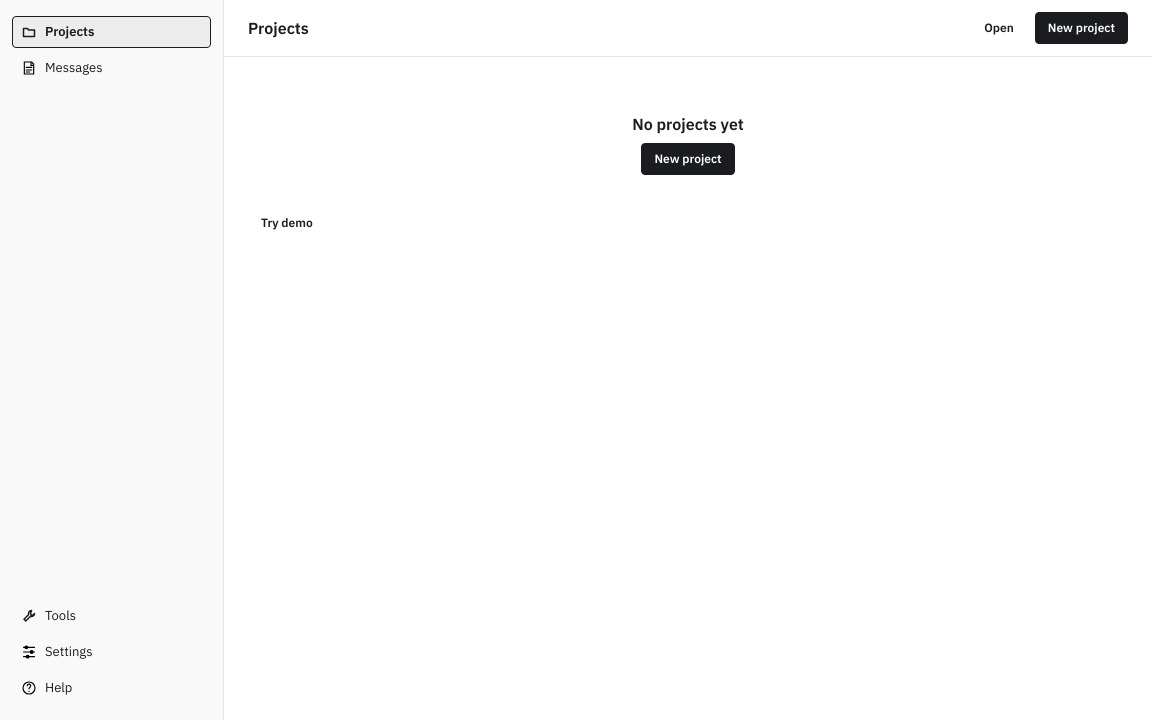
Test case: reader navigation expands and collapses without rereading or duplicating the message heading
Expected: the navigation bar named "Main" is shown, x1=0 y1=0 x2=224 y2=719
Click the button "Tools" at (112, 616), box x1=12 y1=600 x2=211 y2=632
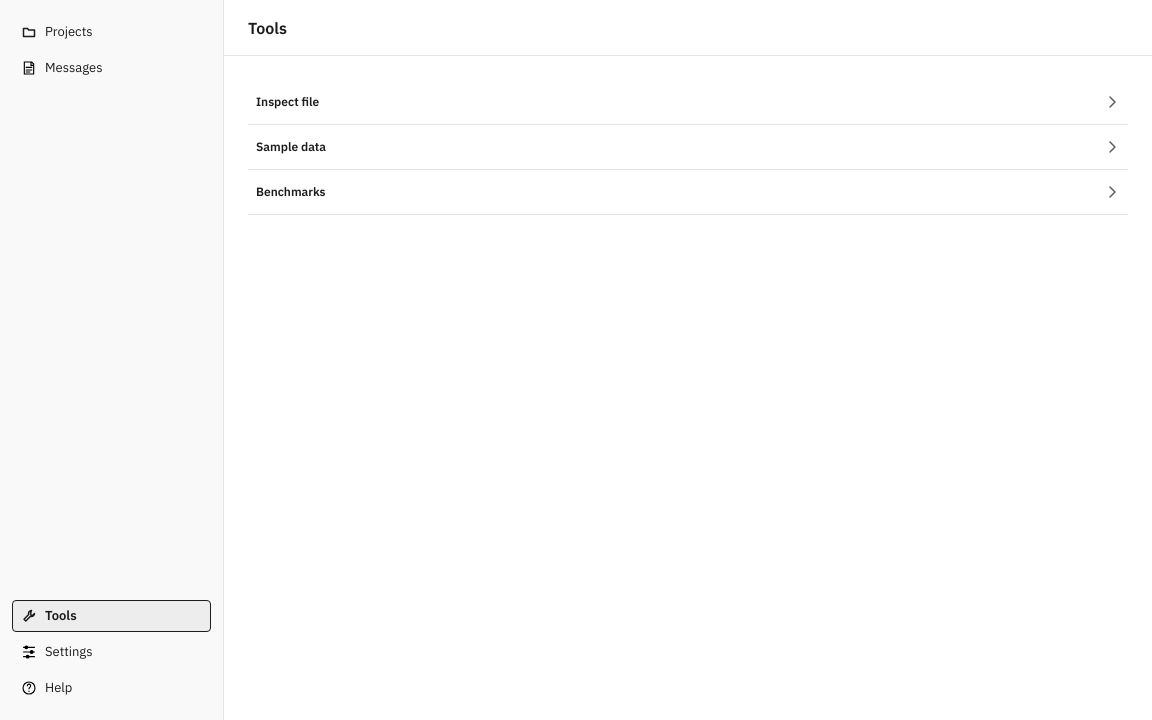
Click the button "Inspect file" at (288, 102), box x1=248 y1=80 x2=1128 y2=124
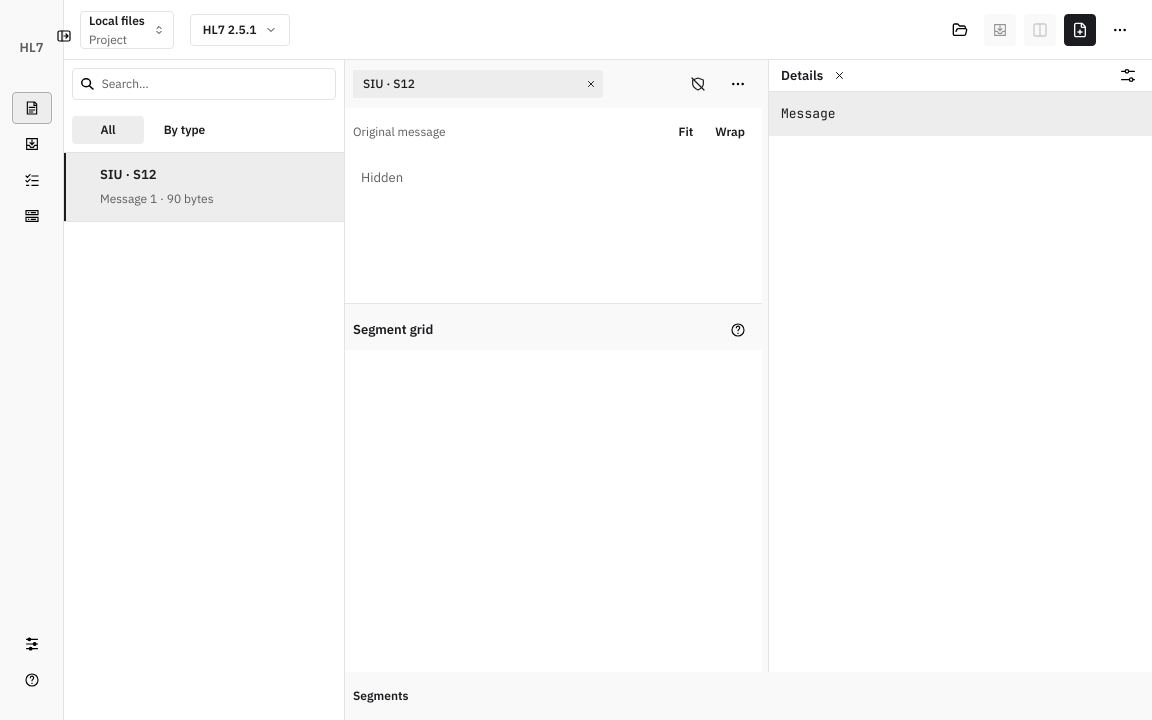
Now the element named "Message details" is shown
Click the button named "Expand navigation" at (64, 36), box x1=52 y1=24 x2=76 y2=48
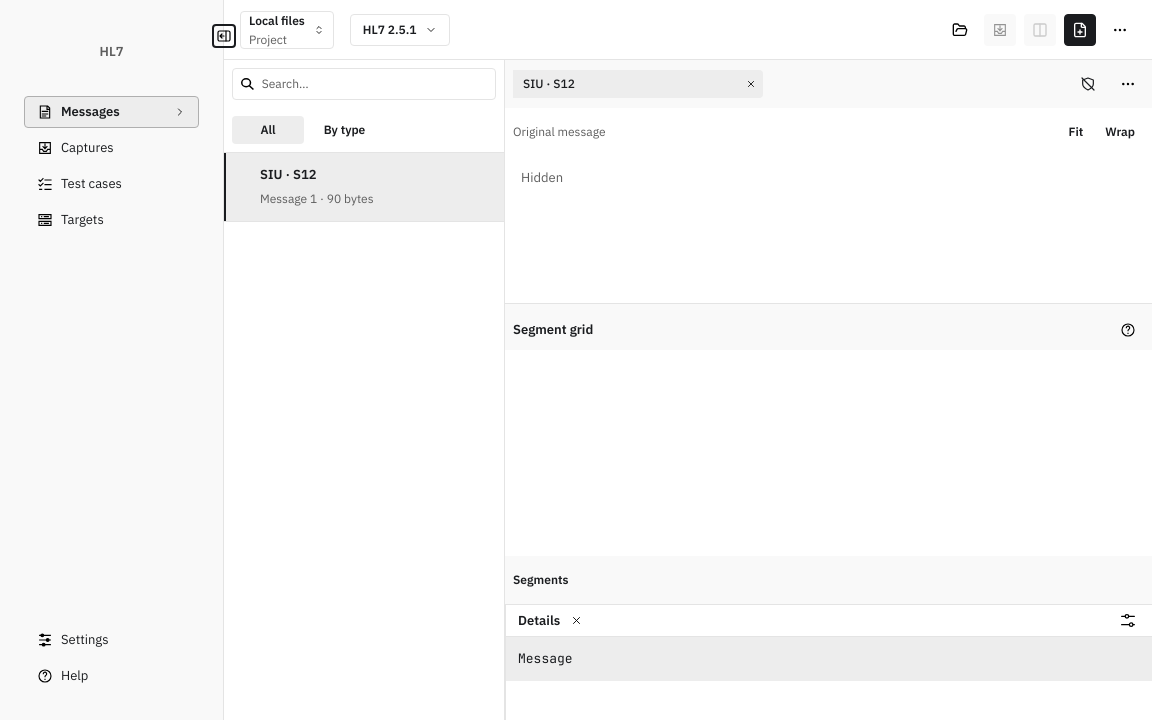
Now the field named "Search messages" is shown, box x1=262 y1=70 x2=487 y2=98
Now the button named "Collapse navigation" is expanded
Click the button named "Collapse navigation" at (224, 36), box x1=212 y1=24 x2=236 y2=48
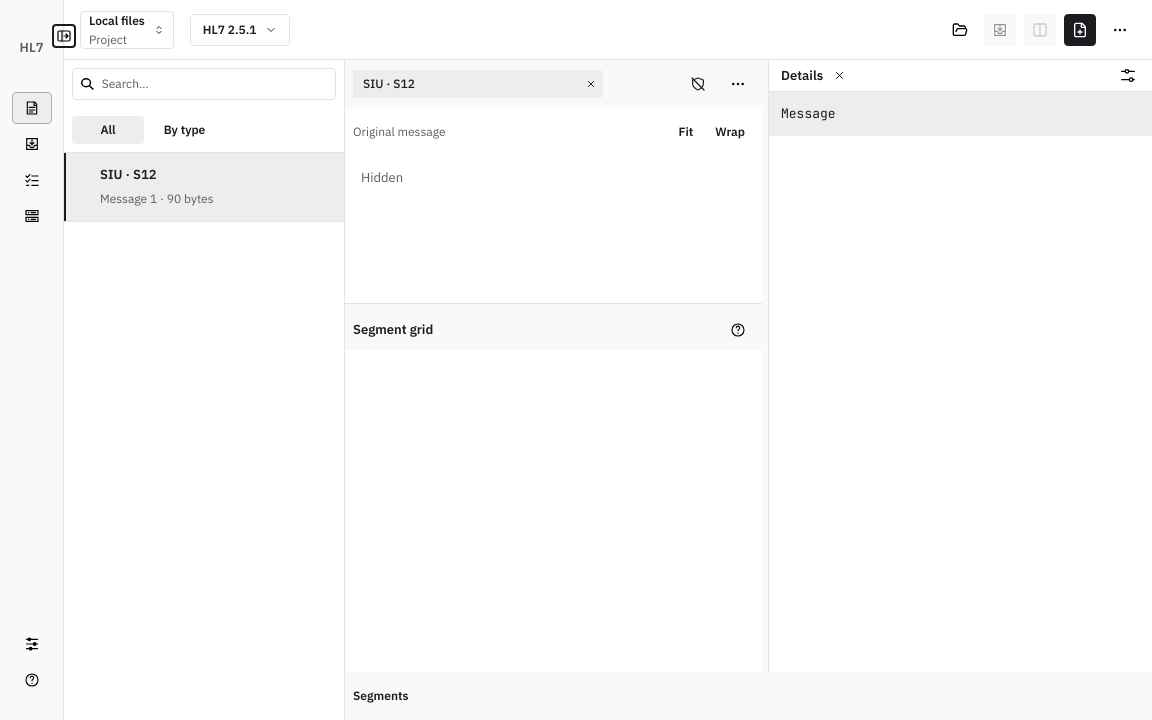
Now the button named "Expand navigation" is shown, box x1=52 y1=24 x2=76 y2=48
